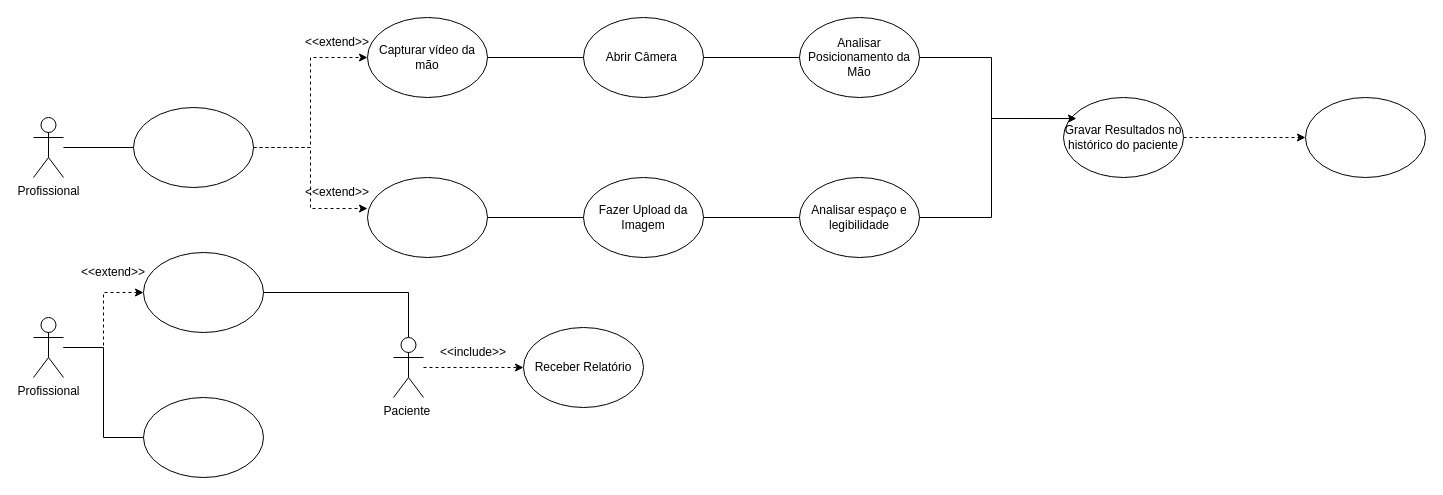
This 1443x495 diagram has some shape labels left out. The shapes that lost their labels are listed below. From the top down, each one's centre as x and y in pixels, then its label:
At (193,147): "Realizar avaliação da escrita".
At (1365,137): "Gerar Relatório da Avaliação".
At (427,217): "Capturar imagem da escrita".
At (203,292): "Compartilhar relatório".
At (203,437): "Visualizar resultado da avaliação".
